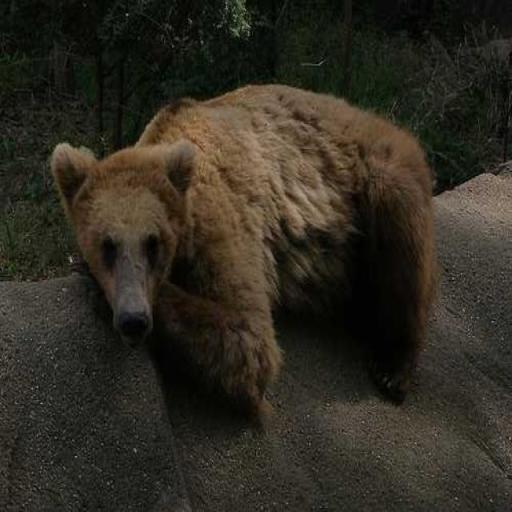Bear: (49, 80, 440, 438)
